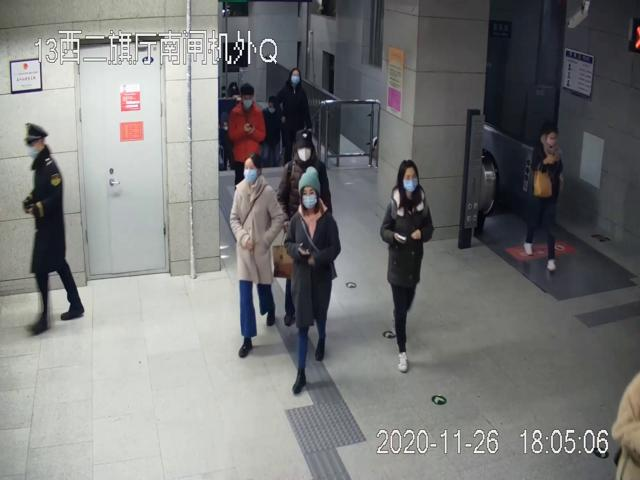person: (22, 119, 83, 332), (284, 168, 341, 394), (229, 152, 281, 357), (382, 160, 431, 372), (524, 121, 564, 272), (277, 128, 337, 224), (228, 84, 268, 183), (275, 67, 315, 155)
